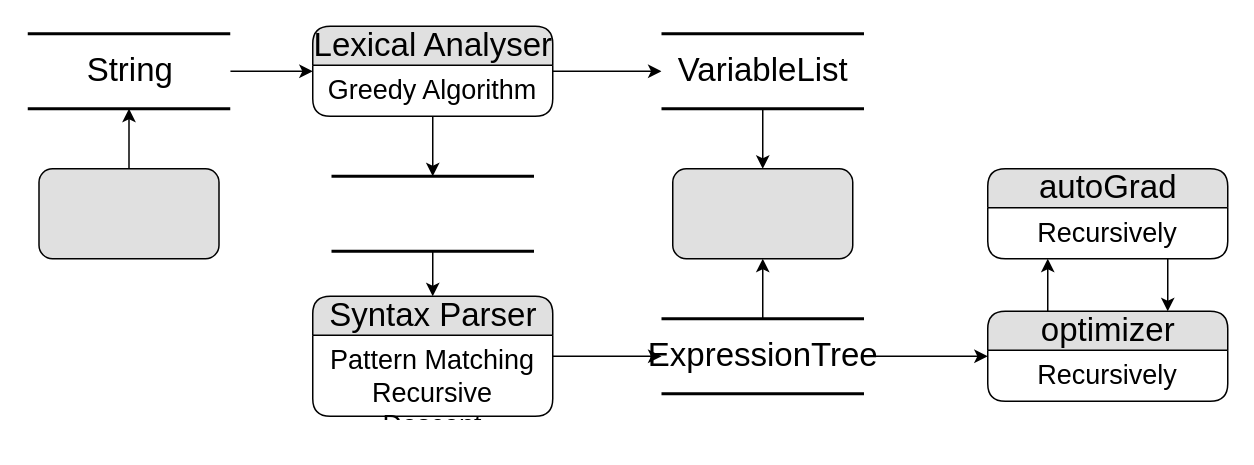
The diagram is 1254 pixels wide and 465 high, and some of its shapes have lost their labels. The shapes that lost their labels are listed below. From the top down, each one's centre as x and y in pixels, then its label:
the point at 128,213: User
the point at 432,213: TokenString
the point at 762,213: Printer
